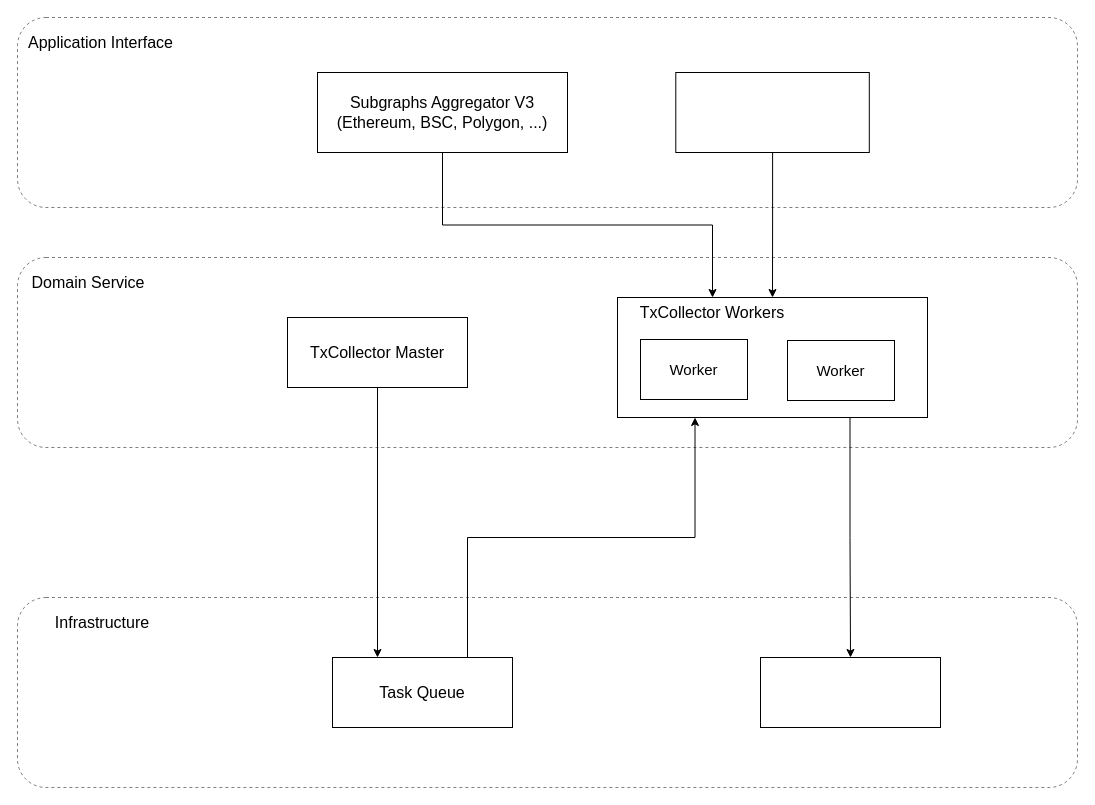
Image size: 1095x805. Some labels were removed from this diagram. Here are the shapes that lost their labels. From the top down, the centre of each, then its label:
At point 772,112: "Price API Service".
At point 850,692: "Database".
